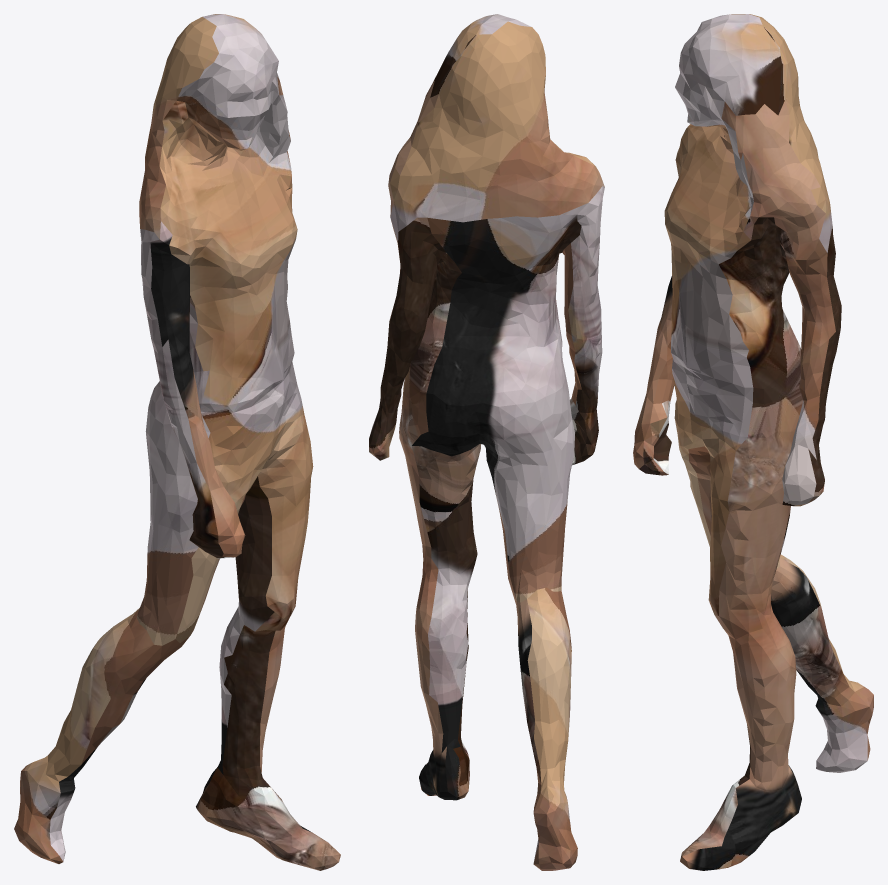
The picture shows the model from 3 angles, left to right: view 1: azimuth 30°, elevation 25°; view 2: azimuth 150°, elevation 25°; view 3: azimuth 270°, elevation 25°; orthographic projection. The views are drawn at different scales.
Parts seen in each view (by area): view 1: d_1; view 2: d_1; view 3: d_1.
Boxes of the visible parts, box(x1,y1,x2,y2) form: d_1: box(14, 14, 340, 870); d_1: box(369, 14, 604, 870); d_1: box(633, 14, 873, 870).
Bounding box in the file's own units: 0.4896 × 1.64 × 0.4402.
Materials: 1 (1 with a texture image).
